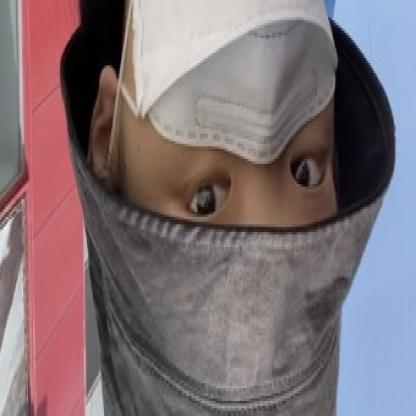hat: (56, 18, 396, 416)
